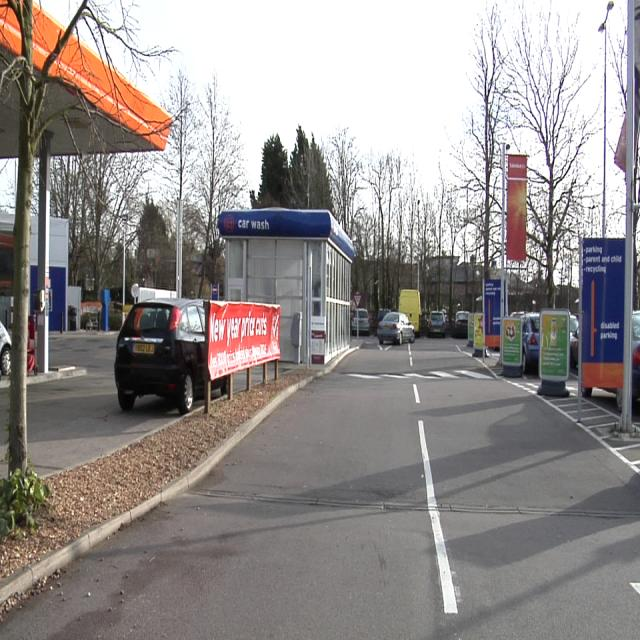Building: (620, 0, 639, 321), (630, 74, 639, 430)
Car: (117, 300, 204, 413), (378, 312, 414, 345), (1, 322, 10, 375), (429, 311, 446, 335)
Road: (2, 336, 639, 624)
Tree: (255, 1, 599, 315), (3, 1, 248, 292)
